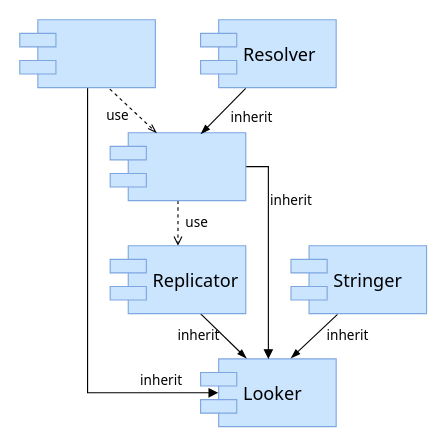
The diagram is 446 pixels wide and 447 high, and some of its shapes have lost their labels. Each missing label, with the centre of its shape:
Equaler: [87,53]
Selector: [177,166]
